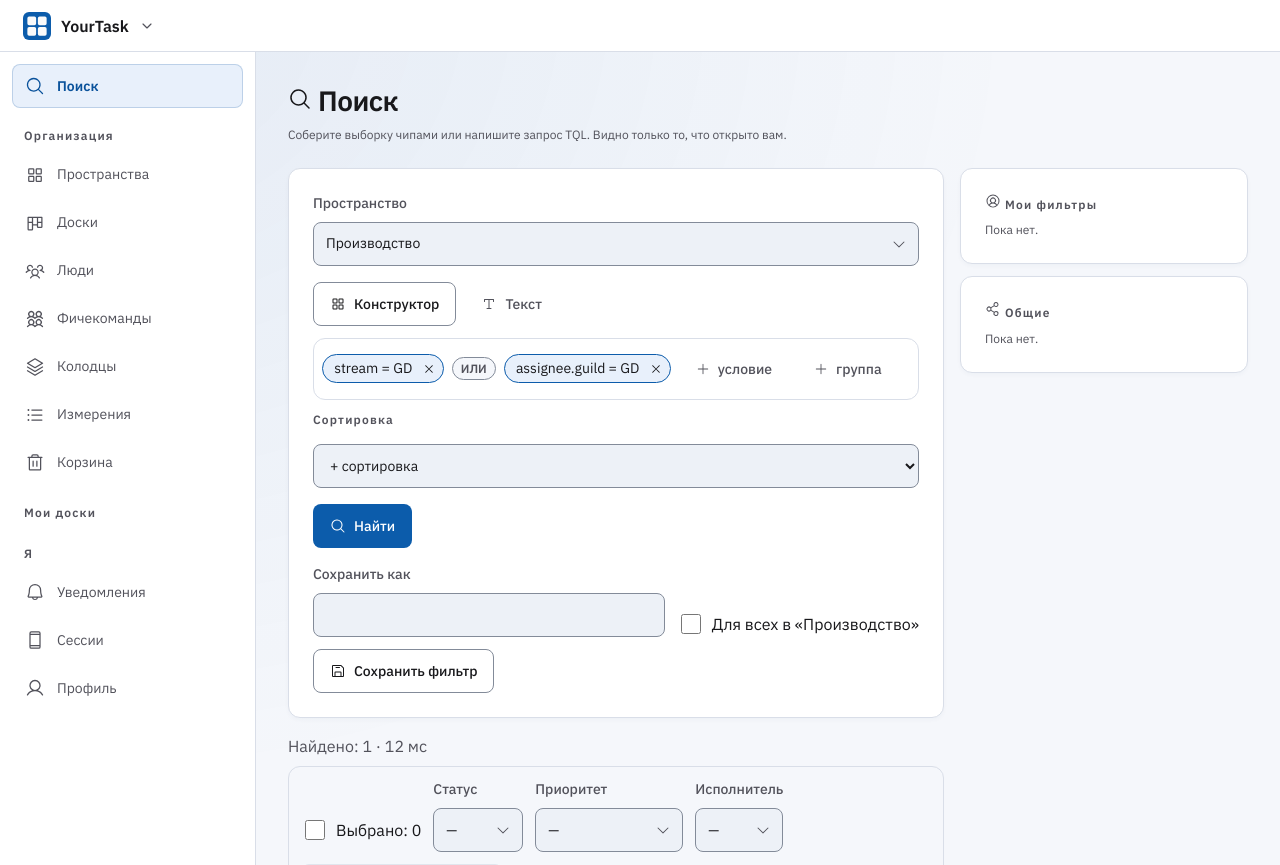
Test: TQL builder and text (YT-15) › results show the count within the viewer's rights; a filter is saved for everyone in the space
Expected: the text "Найдено: 1 · 12 мс" is shown, [288,736,427,756]
Type "Доска лида ГД" into the field labelled "Сохранить как" at (489, 615), box [313,593,665,637]
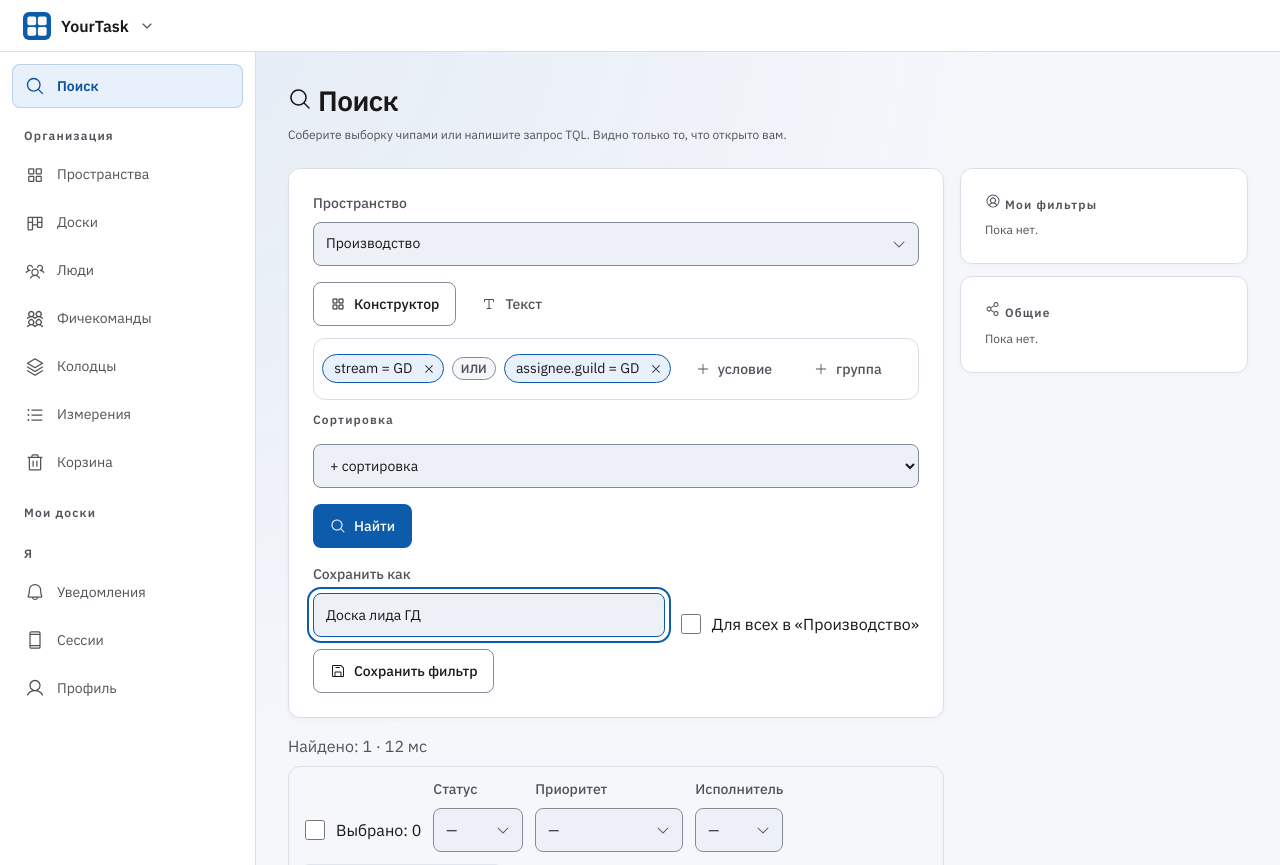
Click the checkbox labelled "Для всех в «Производство»" at (691, 624), box [681,614,701,634]
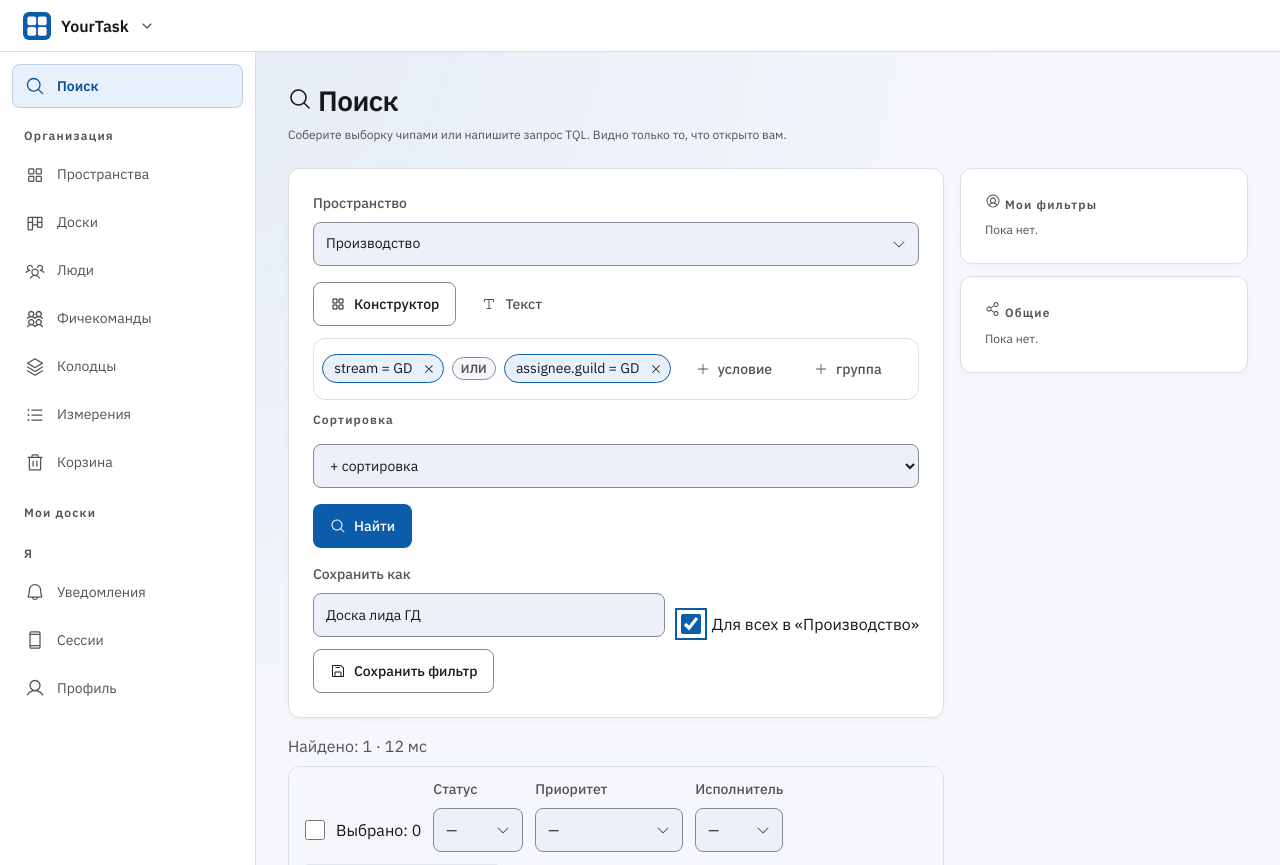
Click the button "Сохранить фильтр" at (404, 671), box [313,649,494,693]
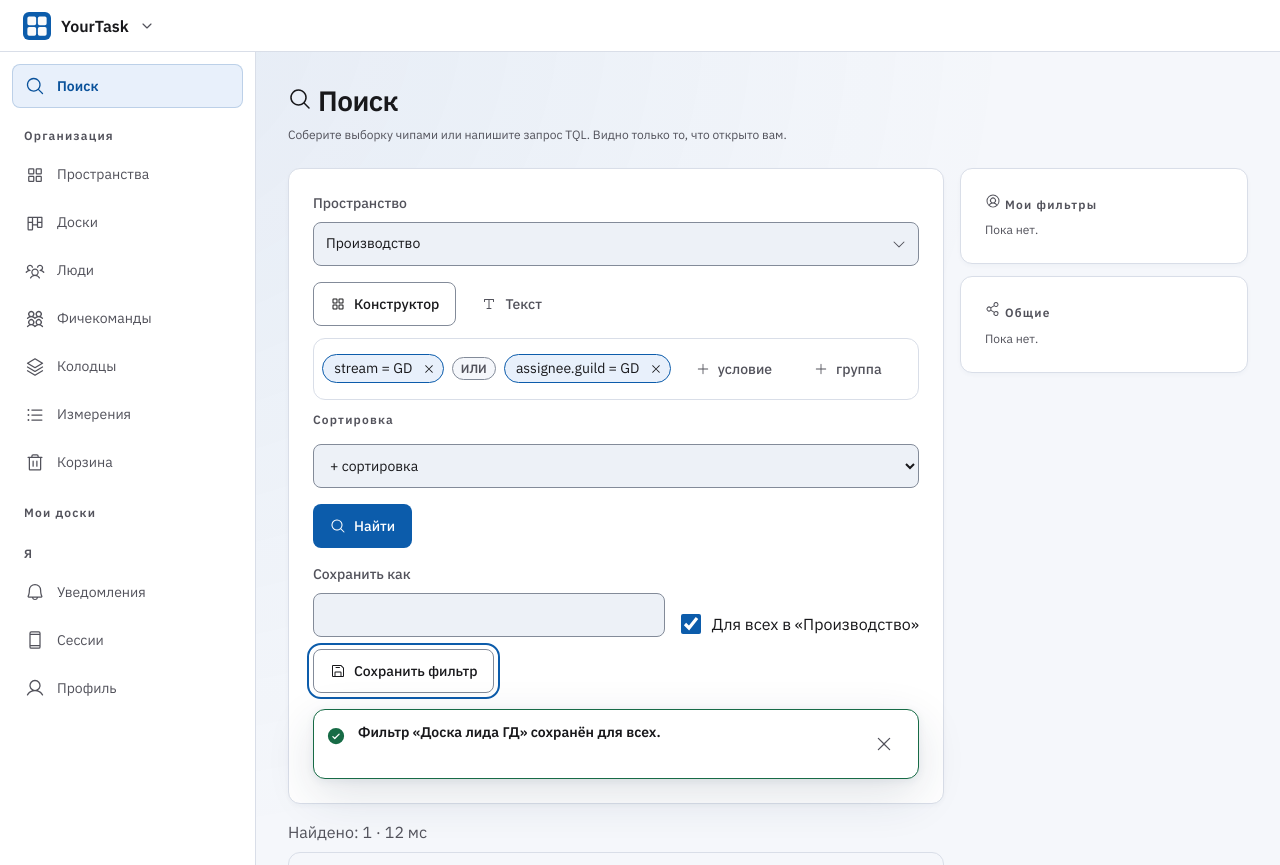
Expected: the text "Фильтр «Доска лида ГД» сохранён для всех." is shown, [358,723,661,741]
